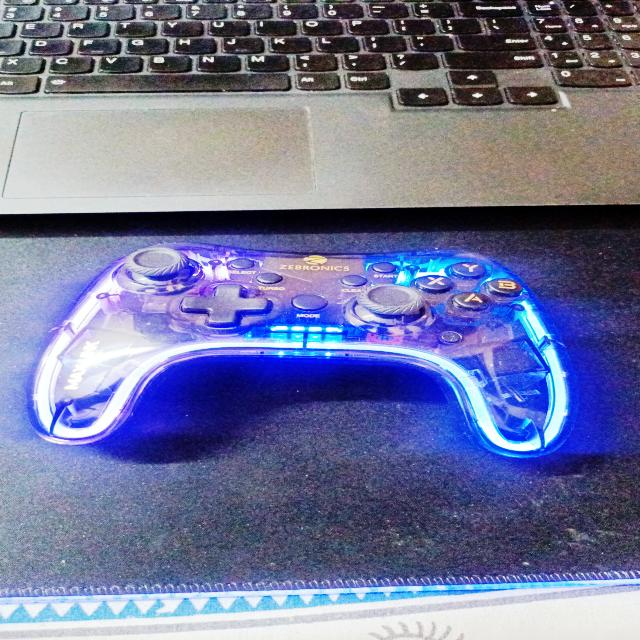gamepad: (25, 242, 579, 459)
